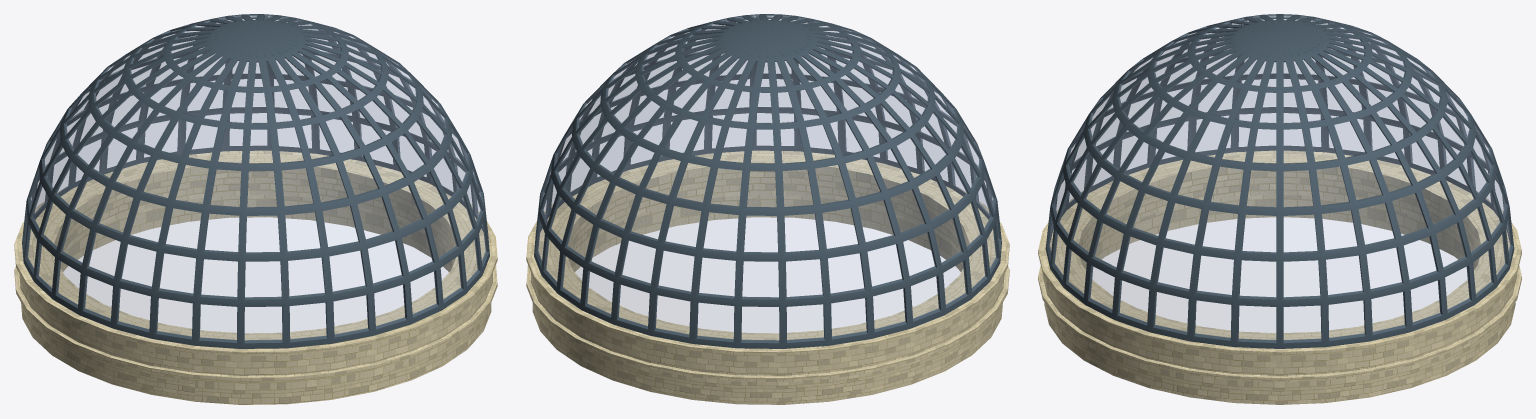
The model's file is Dome.gltf.
3 renders of one model, left to right at view 1: azimuth 30°, elevation 25°; view 2: azimuth 150°, elevation 25°; view 3: azimuth 270°, elevation 25°, orthographic.
Parts seen in each view (by area): view 1: Dome; view 2: Dome; view 3: Dome.
Part boxes in pixels (box(x1,y1,x2,y2)): Dome: box(14, 14, 497, 404); Dome: box(526, 14, 1009, 404); Dome: box(1038, 14, 1521, 404).
Bounding box in the file's own units: 10.21 × 6.28 × 10.21.
3 materials, 1 textured.
